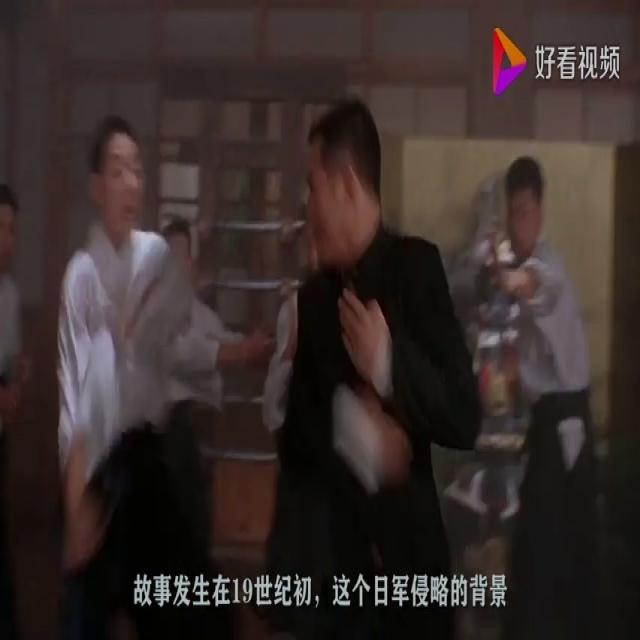fight: (5, 52, 501, 639)
